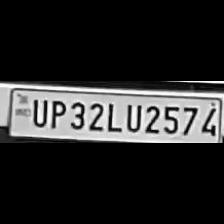2: (86, 98, 104, 132), (142, 102, 160, 134)
3: (66, 98, 86, 130)
4: (196, 102, 218, 136)
5: (160, 102, 180, 136)
7: (180, 103, 196, 135)
L: (104, 100, 122, 132)
P: (46, 97, 66, 128)
U: (122, 101, 142, 133), (28, 97, 48, 127)
